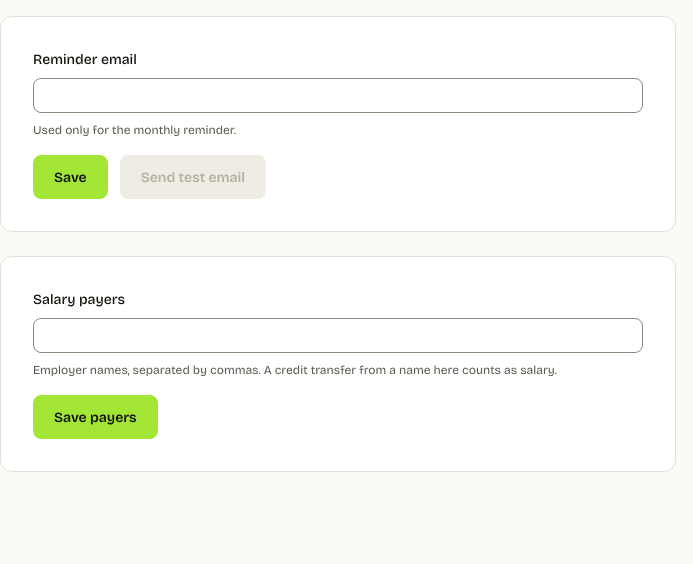
Scenario: SettingsForm › saves a valid address and shows a success message
Type "owner@example.com" into the field labelled "Reminder email".
click(338, 96); type("owner@example.com")  # box [33,78,643,113]
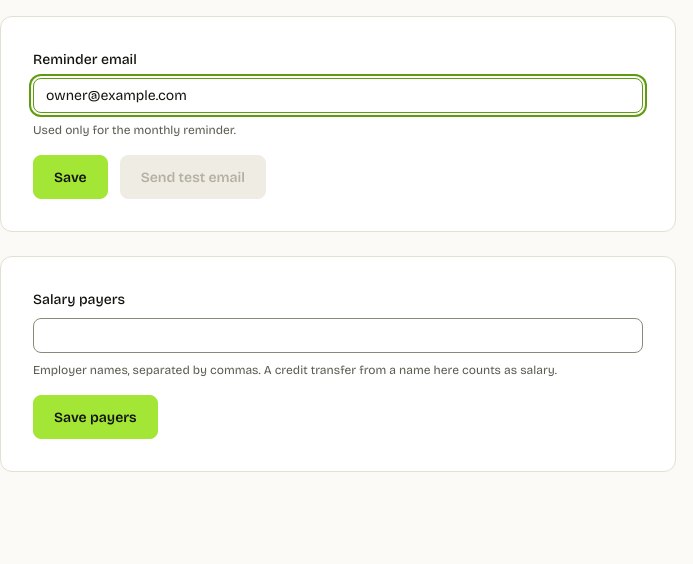
Click the button "Save".
click(70, 177)  # box [33,155,108,199]
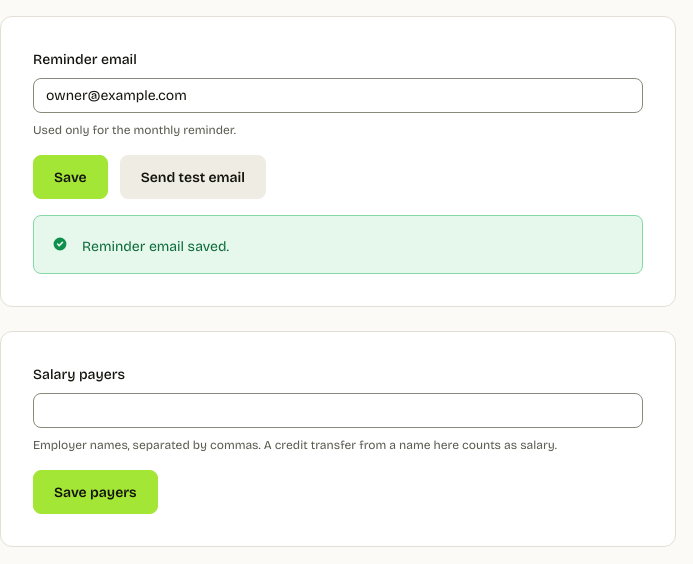
Now the text "Reminder email saved." is shown, box [82,238,229,255]
